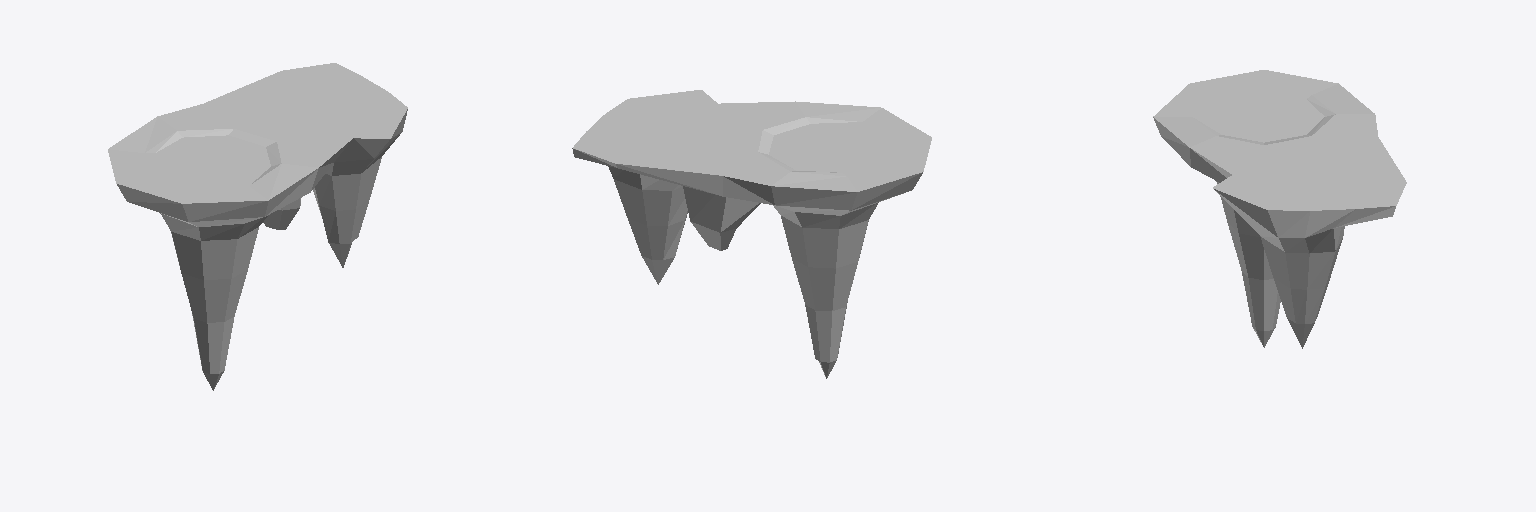
Rendered from stalactite2.obj.
The picture shows the model from 3 angles: view 1: azimuth 30°, elevation 25°; view 2: azimuth 150°, elevation 25°; view 3: azimuth 270°, elevation 25°; orthographic projection.
Parts seen in each view (by area): view 1: singlemite1; view 2: singlemite1; view 3: singlemite1.
Boxes of the visible parts, x1,y1,x2,y2 form: singlemite1: [108, 63, 407, 390]; singlemite1: [572, 90, 931, 378]; singlemite1: [1153, 70, 1406, 348].
Bounding box in the file's own units: 2.8 × 2.12 × 2.09.